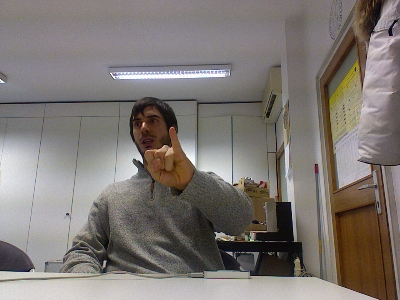小指: (141, 124, 196, 189)
